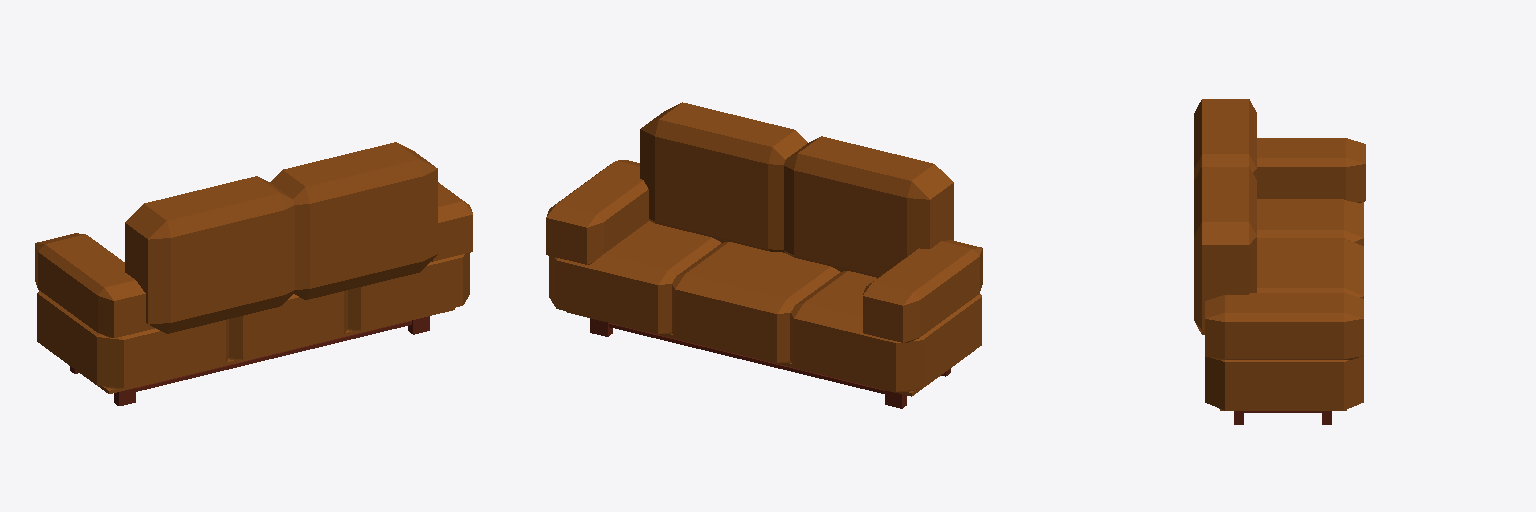
Rendered from Couch2.obj.
3 views of the same model, side by side, from view 1: azimuth 30°, elevation 25°; view 2: azimuth 150°, elevation 25°; view 3: azimuth 270°, elevation 25° (orthographic).
Parts seen in each view (by area): view 1: mergedBlocks; view 2: mergedBlocks; view 3: mergedBlocks.
Boxes of the visible parts, x1=… form: mergedBlocks: x1=35, y1=142, x2=472, y2=405; mergedBlocks: x1=546, y1=102, x2=982, y2=408; mergedBlocks: x1=1194, y1=99, x2=1365, y2=424.
Size of the model in its own units: 2.2 by 1.07 by 0.875.